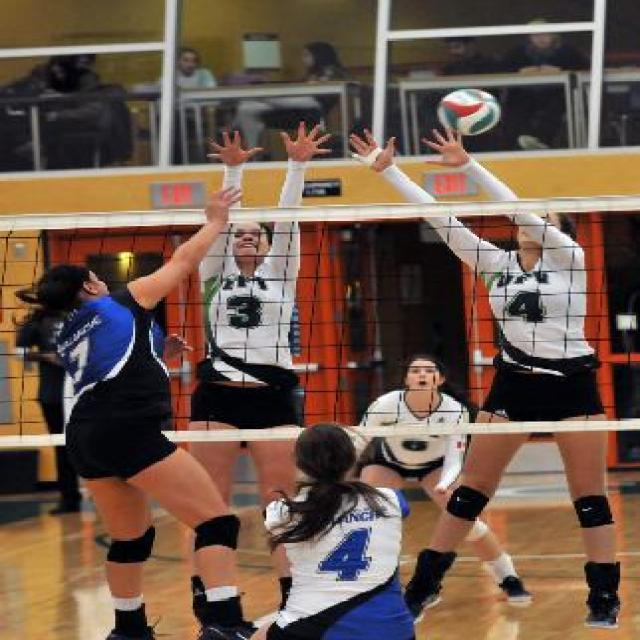volleyball: (438, 89, 499, 134)
